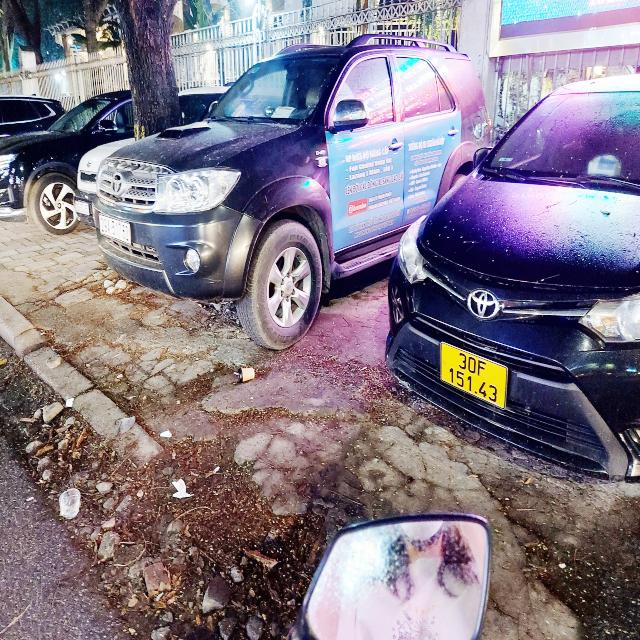license_plate: (439, 338, 512, 414), (99, 213, 137, 248)
